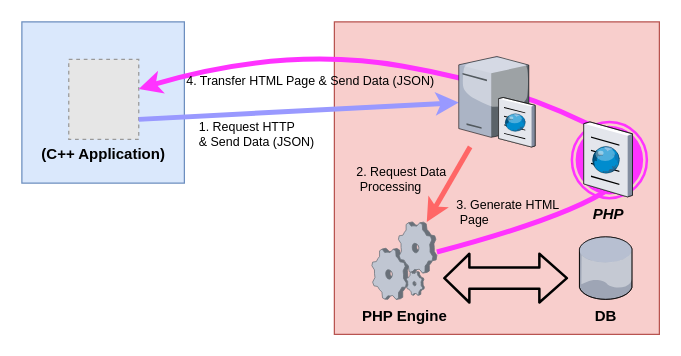
This 681x356 diagram has some shape labels left out. Grey dashed boxes stand in for pictures. The box of each missing label's shape, as (x1, y1, x2, y2) in pixels:
Client: (21, 21, 184, 183)
DB/Web Server: (333, 21, 659, 334)
